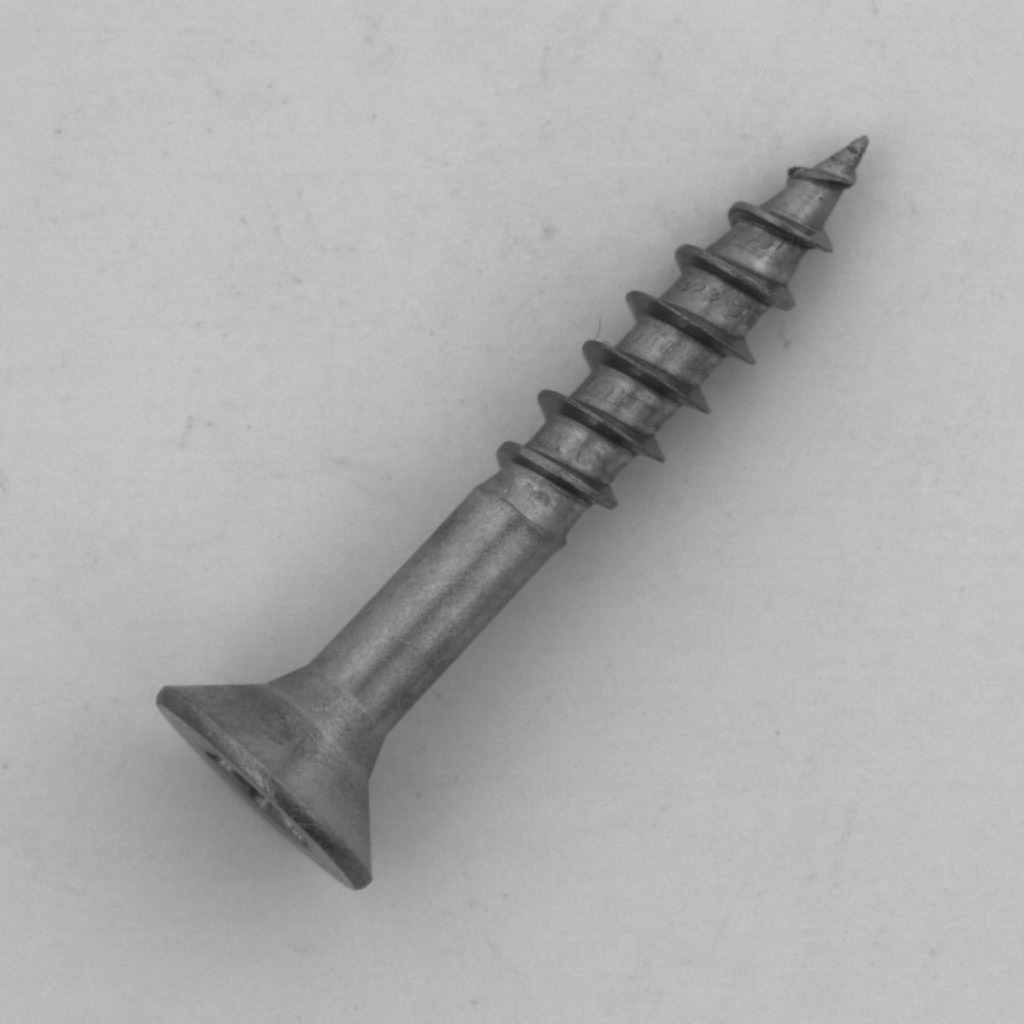good: (130, 124, 954, 892)
